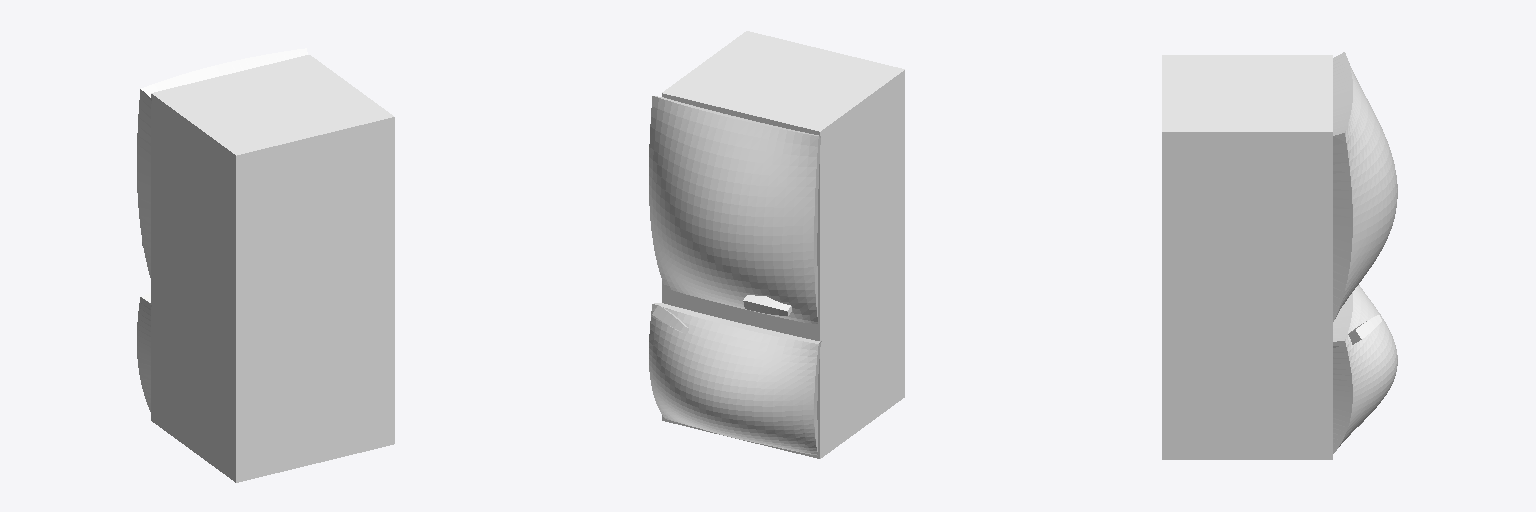
The model's file is HOLOD.obj.
3 views of the same model, side by side, from view 1: azimuth 30°, elevation 25°; view 2: azimuth 150°, elevation 25°; view 3: azimuth 270°, elevation 25° (orthographic).
Parts seen in each view (by area): view 1: Box001; view 2: Box001; view 3: Box001.
Part boxes in pixels (left/top/right/bottom): Box001: left=137, top=48, right=394, bottom=482; Box001: left=649, top=31, right=904, bottom=458; Box001: left=1162, top=52, right=1397, bottom=459.
Size of the model in its own units: 45.06 by 85.35 by 55.23.